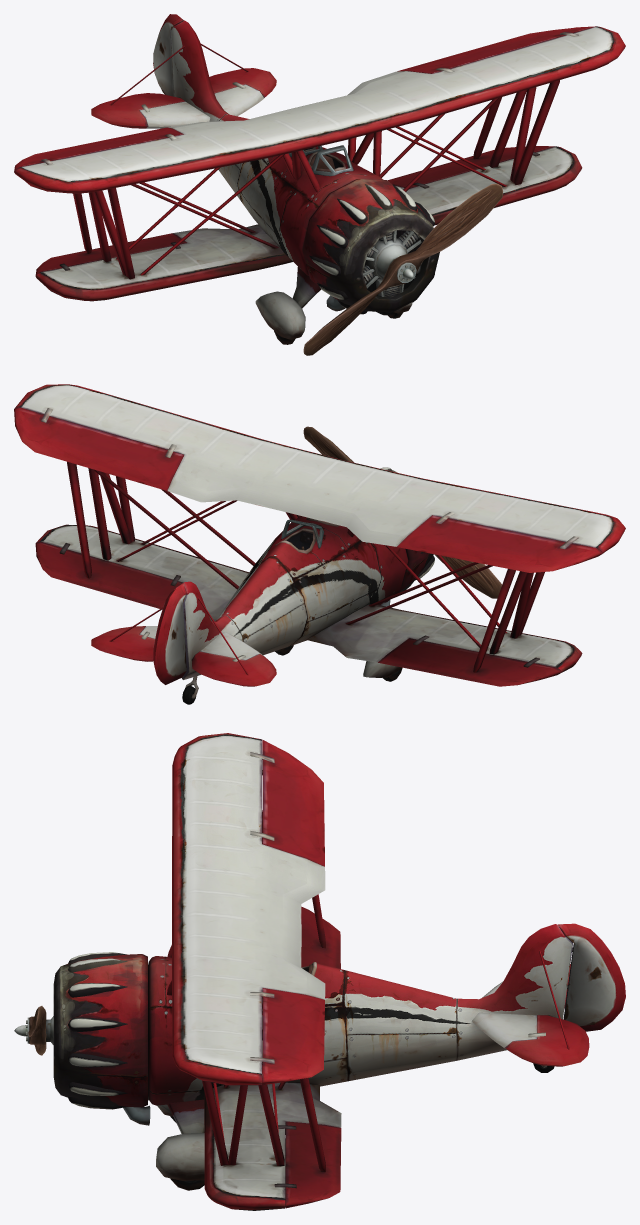
The model's file is rustairborn.glb.
The picture shows the model from 3 angles, top to bottom: view 1: azimuth 30°, elevation 25°; view 2: azimuth 150°, elevation 25°; view 3: azimuth 270°, elevation 25°; orthographic projection. The views are drawn at different scales.
Visible parts, largest first — view 1: Wing_Top.002, Wing_Top.004; view 2: Wing_Top.002, Wing_Top.004; view 3: Wing_Top.002, Wing_Top.004.
Part boxes in pixels (box(x1,y1,x2,y2)): Wing_Top.002: box(14, 14, 625, 355); Wing_Top.004: box(73, 43, 559, 279); Wing_Top.002: box(14, 384, 625, 704); Wing_Top.004: box(67, 461, 544, 675); Wing_Top.002: box(14, 733, 625, 1210); Wing_Top.004: box(167, 810, 569, 1171).
Size of the model in its own units: 18.54 by 6.46 by 13.94.
Materials: 1 (1 with a texture image).
